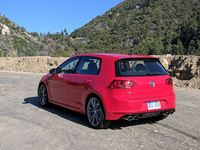car: (37, 54, 176, 127)
